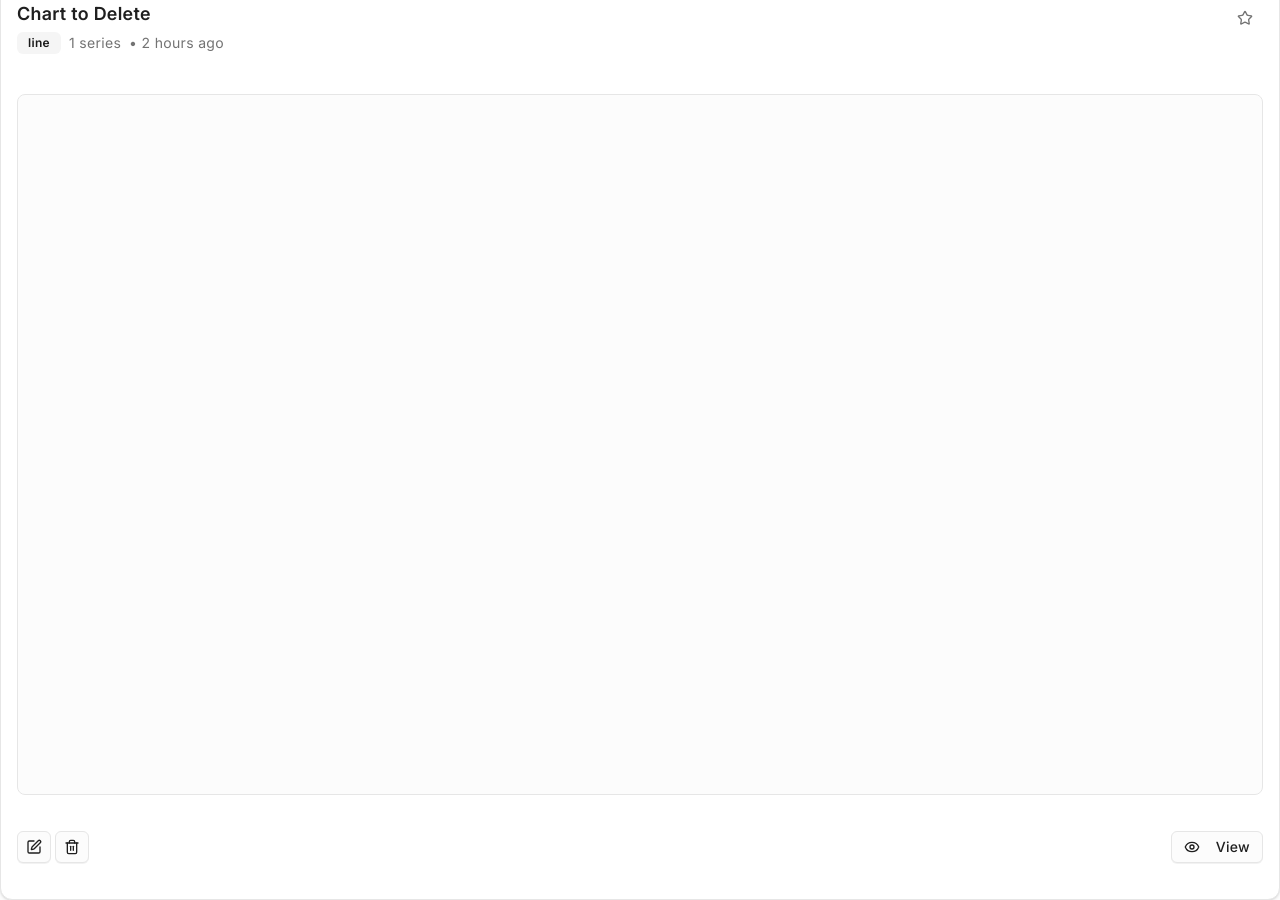
Test: ChartCard › delete functionality › shows confirmation dialog when delete button is clicked
The width and height of the screenshot is (1280, 900).
(page scrolled)
Click the button named "delete chart": (72, 847) left=55, top=831, right=89, bottom=863
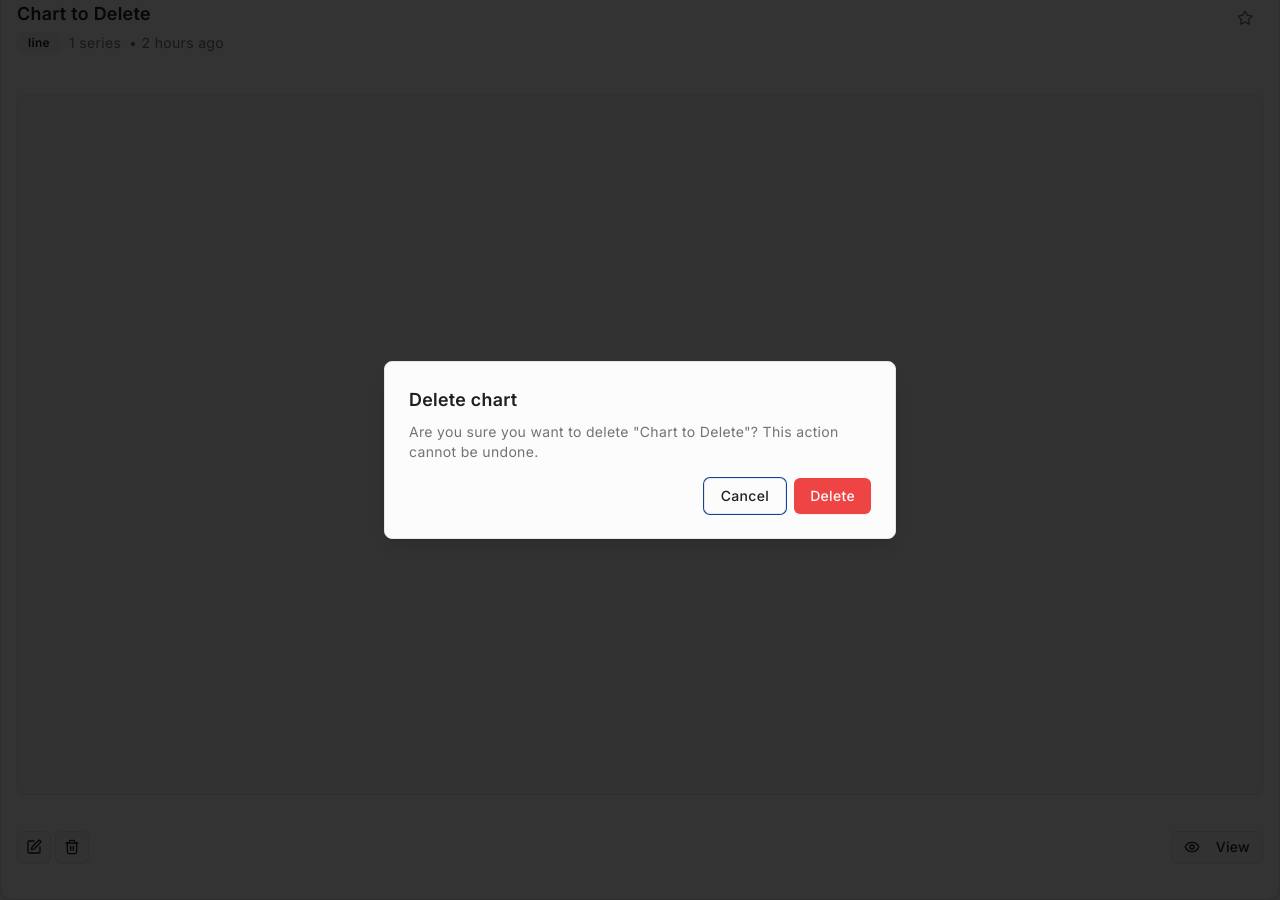
expect the heading "Delete chart" is shown: met, box left=409, top=389, right=518, bottom=410
expect the text "Are you sure you want to delete \"Chart to Delete\"" is shown: met, box left=409, top=422, right=871, bottom=462
